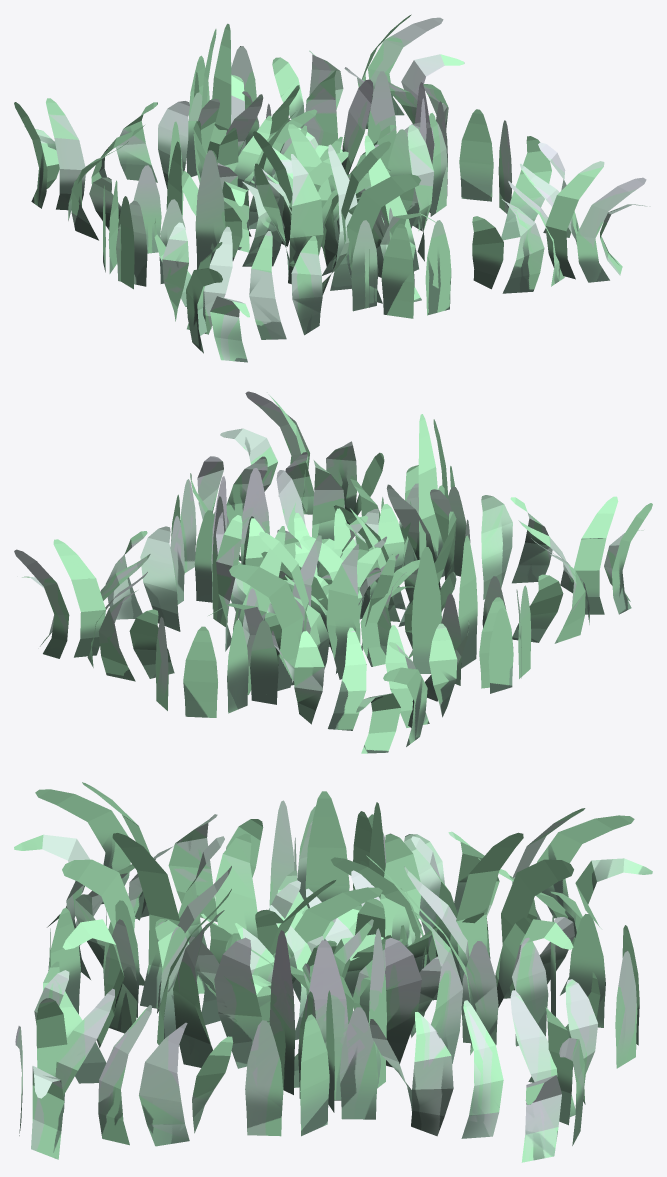
The model's file is Grass.fbx.
The picture shows the model from 3 angles, top to bottom: view 1: azimuth 30°, elevation 25°; view 2: azimuth 150°, elevation 25°; view 3: azimuth 270°, elevation 25°; orthographic projection. The views are drawn at different scales.
Parts seen in each view (by area): view 1: Plane.001; view 2: Plane.001; view 3: Plane.001.
Part boxes in pixels (bbox=[...]): Plane.001: bbox=[14, 14, 650, 362]; Plane.001: bbox=[14, 391, 652, 753]; Plane.001: bbox=[14, 782, 652, 1162].
Bounding box in the file's own units: 72.17 × 25.1 × 72.63.
